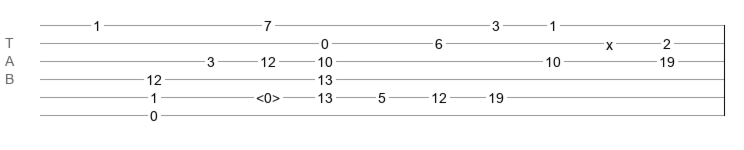0: (150, 108, 158, 118), (321, 36, 329, 46)
1: (93, 18, 101, 28), (150, 90, 158, 100), (549, 18, 557, 28)
10: (317, 54, 333, 64), (545, 54, 561, 64)
12: (146, 72, 162, 82), (260, 54, 276, 64), (431, 90, 447, 100)
13: (317, 90, 333, 100), (317, 72, 333, 82)
19: (488, 90, 504, 100), (659, 54, 675, 64)
2: (663, 36, 671, 46)
3: (207, 54, 215, 64), (492, 18, 500, 28)
5: (378, 90, 386, 100)
6: (435, 36, 443, 46)
7: (264, 18, 272, 28)
harmonic: (256, 90, 280, 100)
x: (606, 37, 613, 45)
